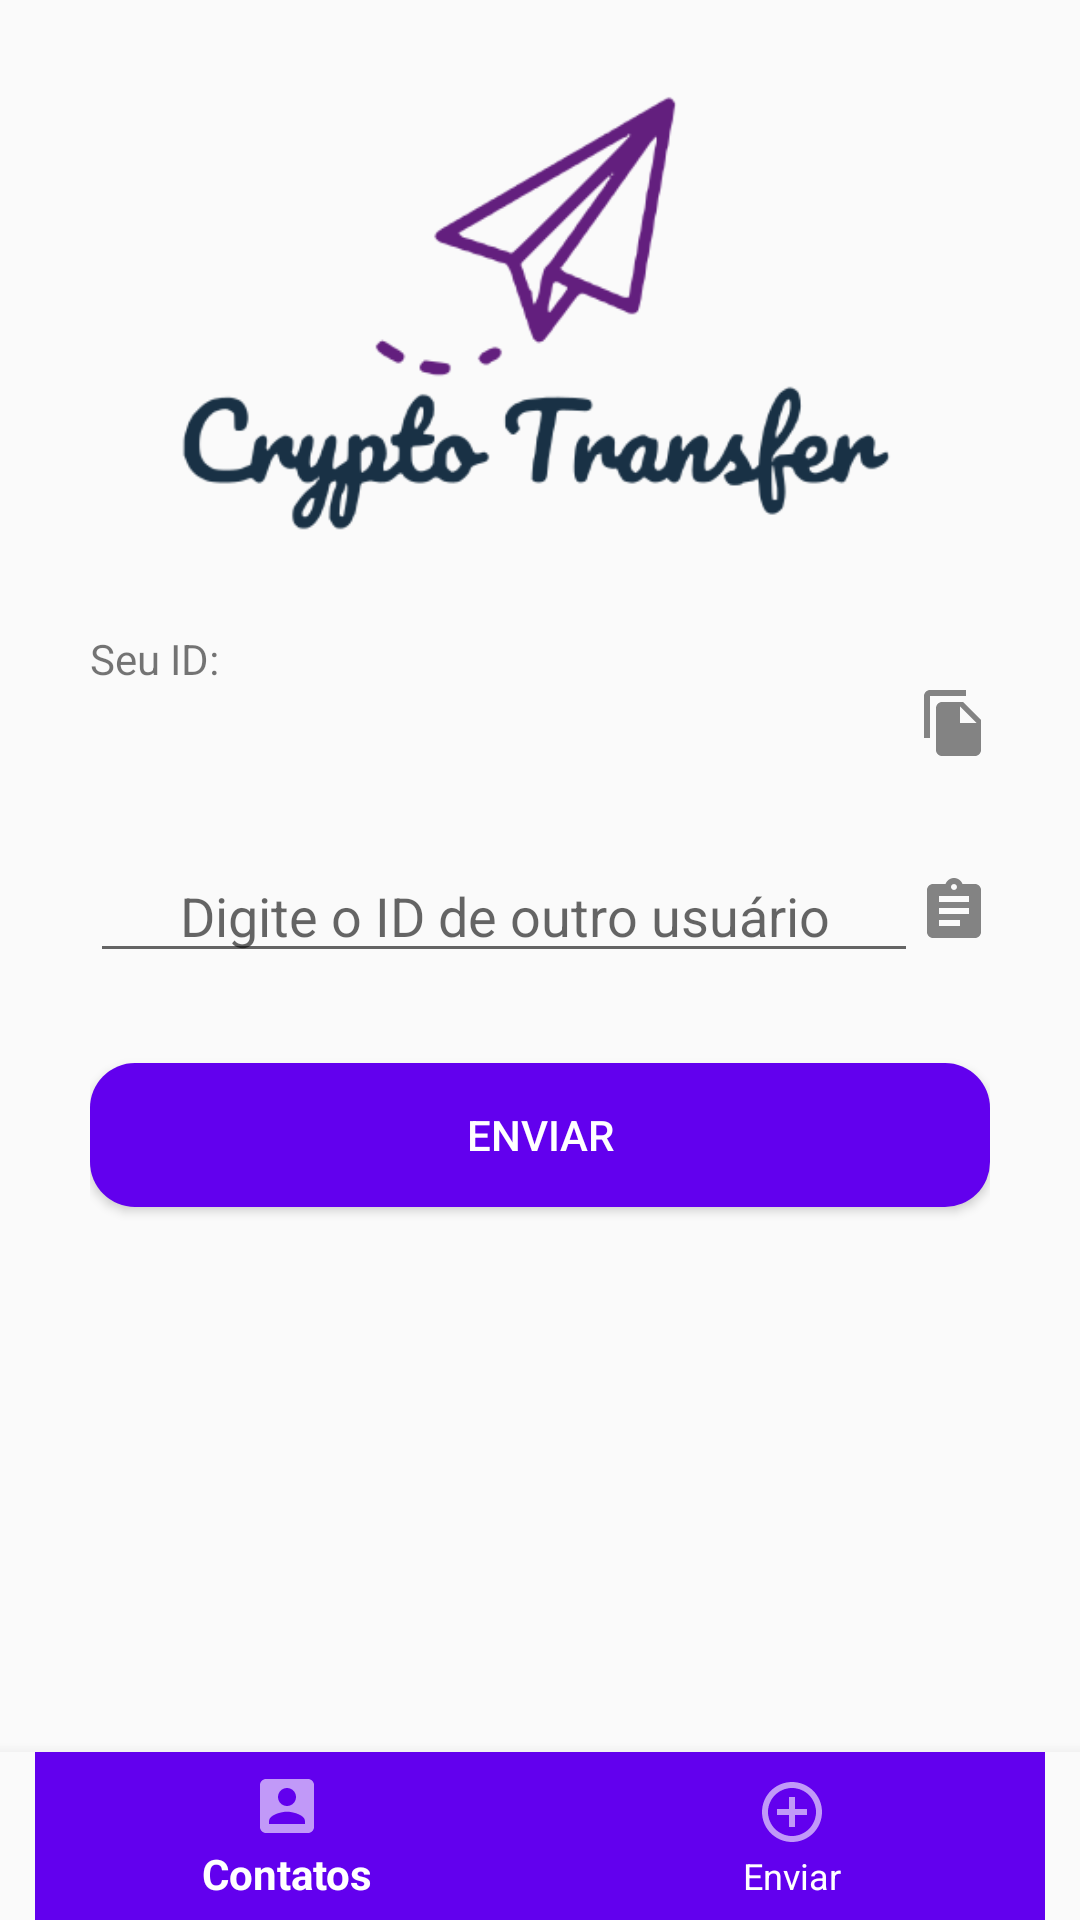

Point at icon controls on the screen. Image size 1080x1920, points as [x,y].
Copy Icon: [952,723]
Paste Icon: [954,908]
